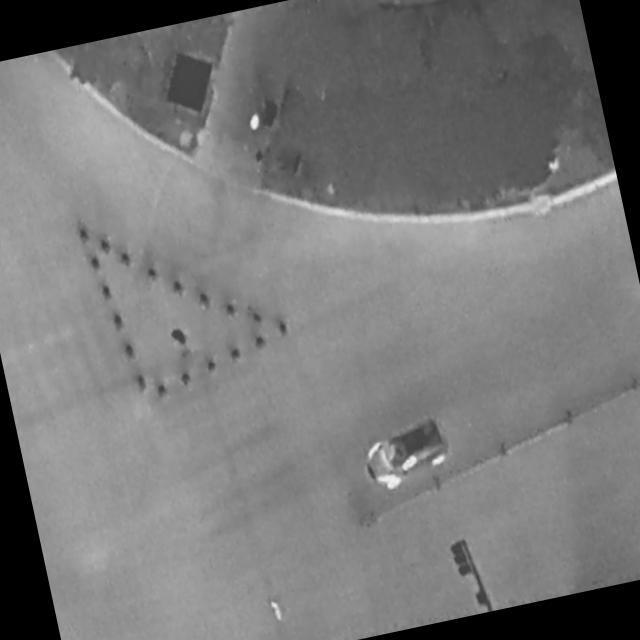person: (269, 597, 286, 624)
